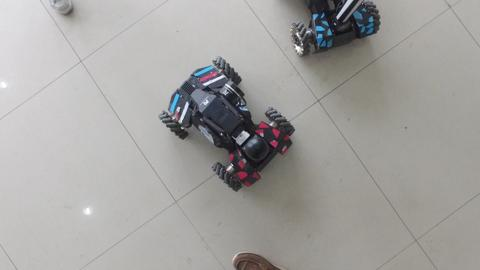chariot: (153, 52, 299, 199), (287, 1, 385, 61)
